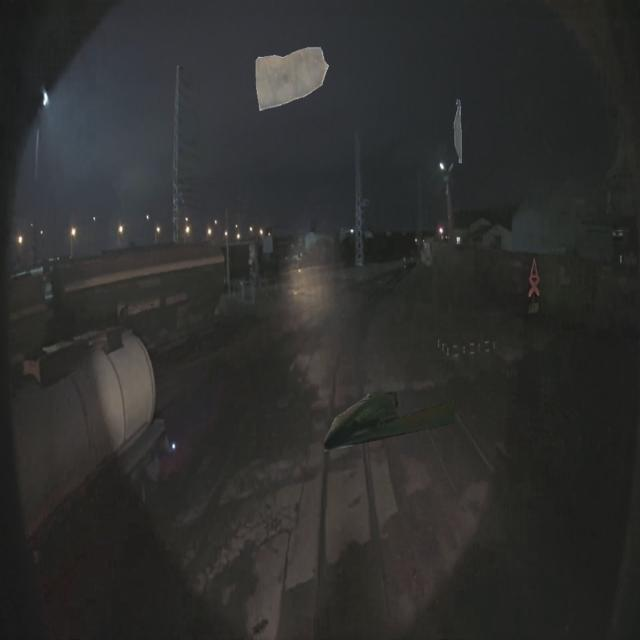floating object: (325, 388, 454, 452), (251, 43, 338, 116), (453, 99, 468, 163)
